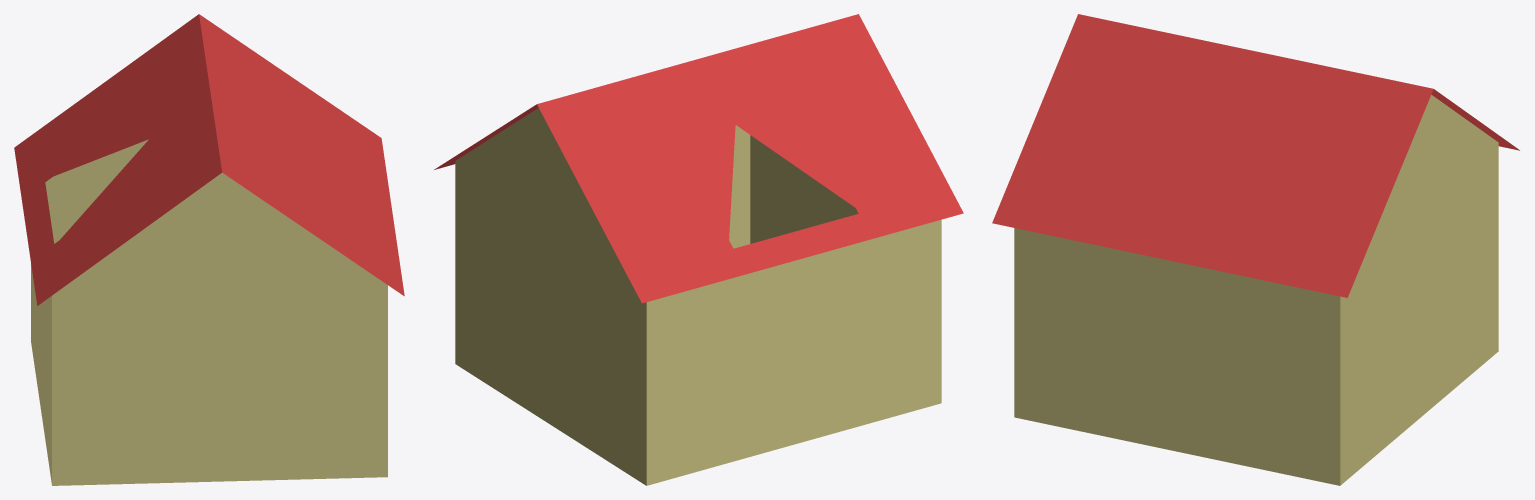
3 views of the same model, side by side, from view 1: azimuth 30°, elevation 25°; view 2: azimuth 150°, elevation 25°; view 3: azimuth 270°, elevation 25° (orthographic). The views are drawn at different scales.
Bounding box in the file's own units: 15.8 × 15.91 × 11.07.
